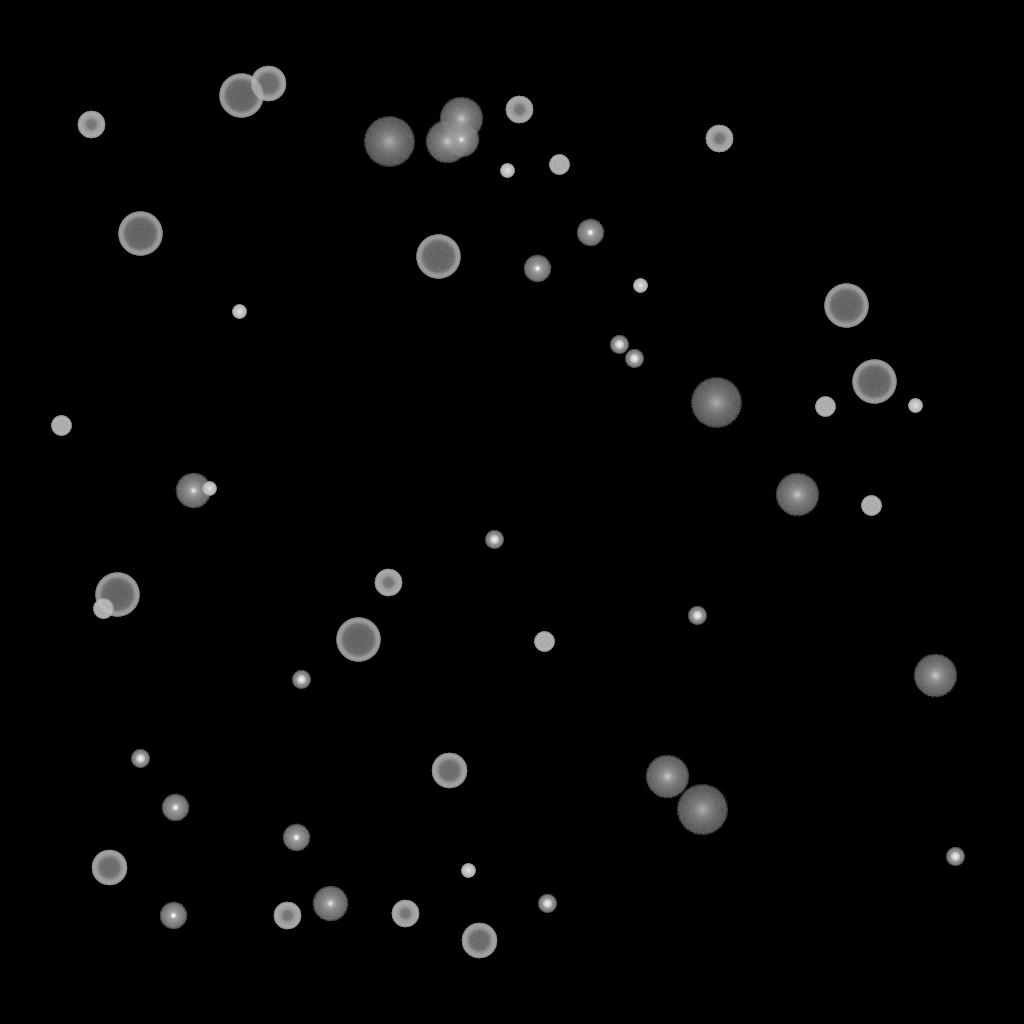depth:-10: (282, 824, 310, 852), (523, 255, 551, 283), (161, 794, 189, 822), (576, 219, 604, 247), (159, 902, 187, 930)
depth:-20: (688, 607, 706, 625), (292, 671, 310, 689), (131, 750, 149, 768), (538, 895, 556, 913), (485, 531, 503, 549), (625, 350, 643, 368), (946, 848, 964, 866), (610, 336, 628, 354)
depth:-30: (202, 482, 216, 496), (461, 864, 475, 878), (633, 279, 647, 293), (500, 164, 514, 178), (908, 399, 922, 413), (232, 305, 246, 319)
depth:-40: (549, 155, 569, 175), (815, 397, 835, 417), (51, 416, 71, 436), (534, 632, 554, 652), (861, 496, 881, 516), (93, 599, 113, 619)
depth:-50: (391, 900, 419, 928), (77, 111, 105, 139), (705, 125, 733, 153), (374, 569, 402, 597), (505, 96, 533, 124), (273, 902, 301, 930)
depth:-60: (250, 66, 286, 102), (431, 753, 467, 789), (461, 923, 497, 959), (91, 850, 127, 886)
depth:-70: (336, 618, 380, 662), (219, 74, 263, 118), (118, 212, 162, 256), (95, 573, 139, 617), (824, 284, 868, 328), (416, 235, 460, 279), (852, 360, 896, 404)
depth:0: (312, 886, 348, 922), (443, 122, 479, 158), (175, 473, 211, 509)
depth:10: (913, 654, 957, 698), (775, 473, 819, 517), (425, 120, 469, 164), (439, 97, 483, 141), (645, 755, 689, 799)
depth:20: (690, 378, 742, 428), (363, 117, 415, 167), (676, 785, 728, 835)
